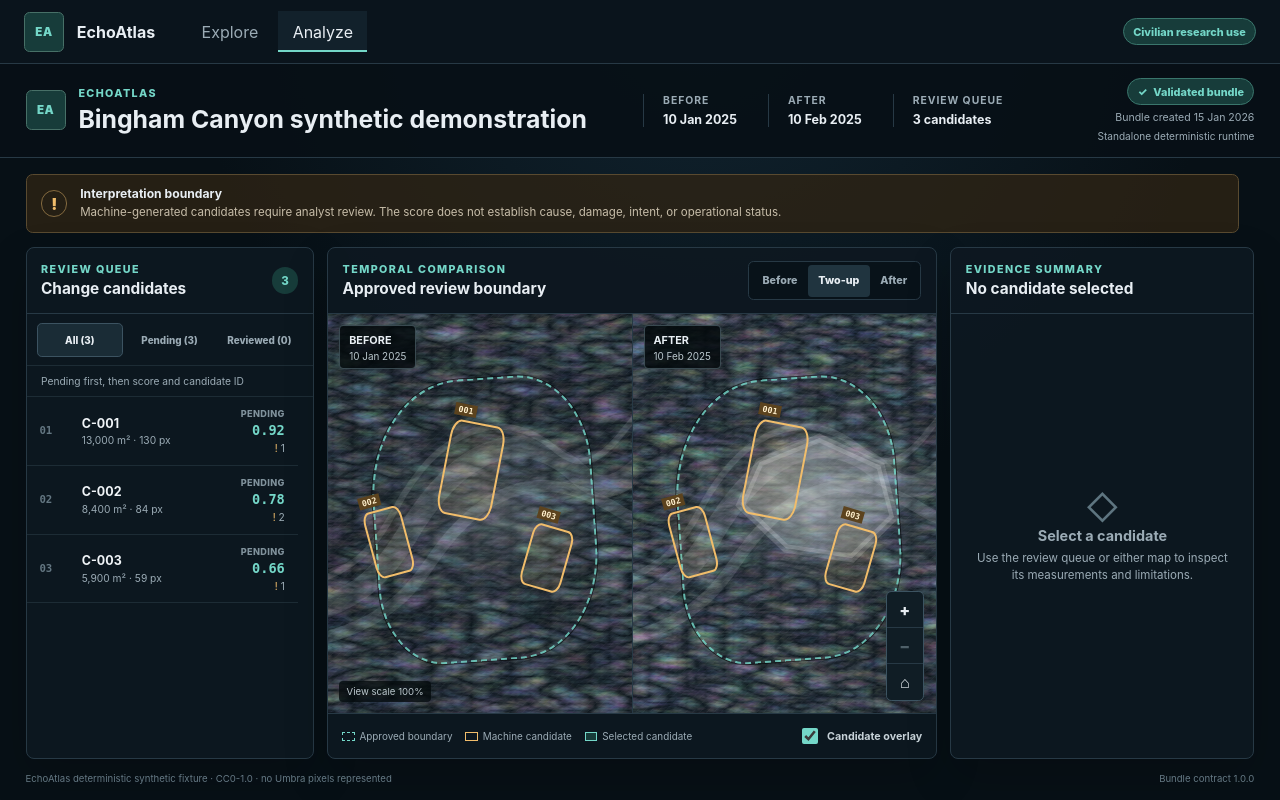
Scenario: App › traces a candidate through provenance, processing, warnings, and export
The image size is (1280, 800).
Step 1. Click the button "01 C-001 13,000 m² · 130 px Pending 0.92 ! 1" → click(162, 431), box [27, 397, 298, 466]
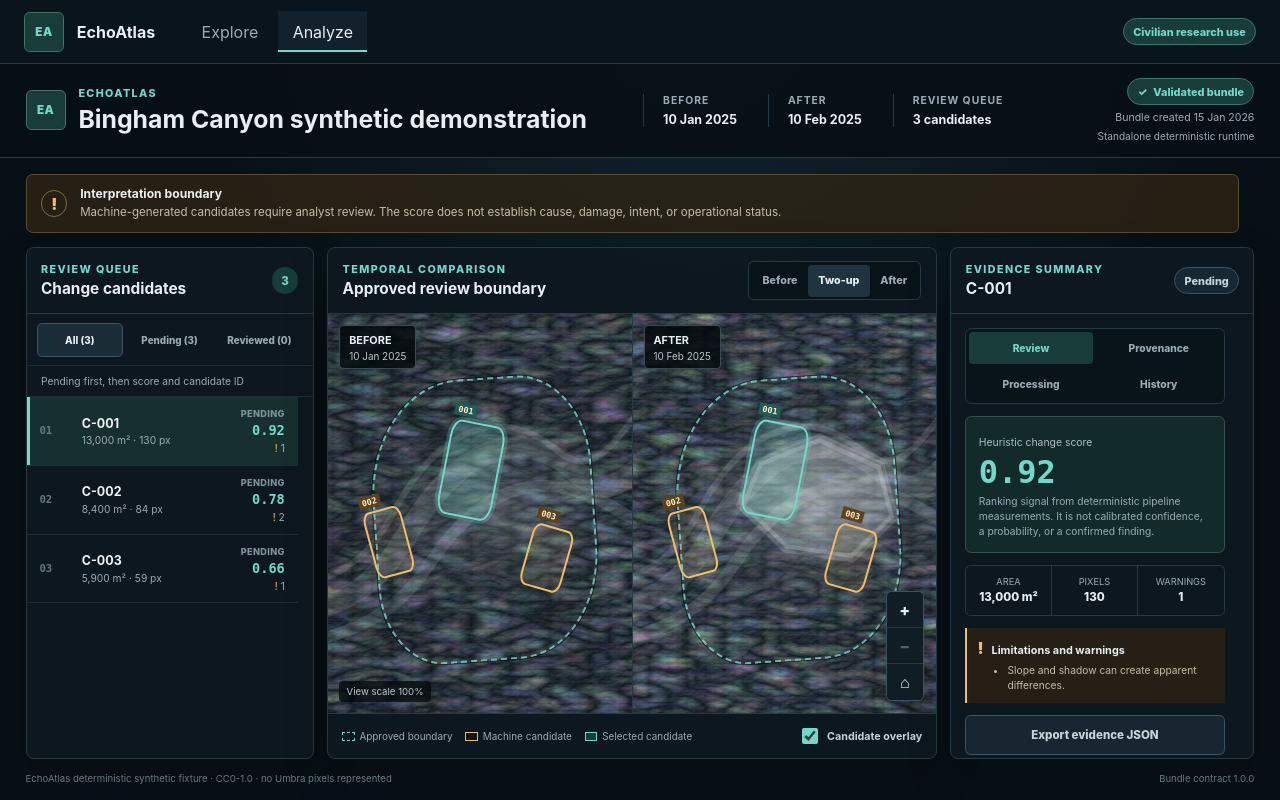
Check: the text "Ranking signal from deterministic" shows "not calibrated confidence", box [979, 495, 1203, 537]
Step 2. Click the tab "Provenance" → click(1159, 348), box [1097, 332, 1221, 364]
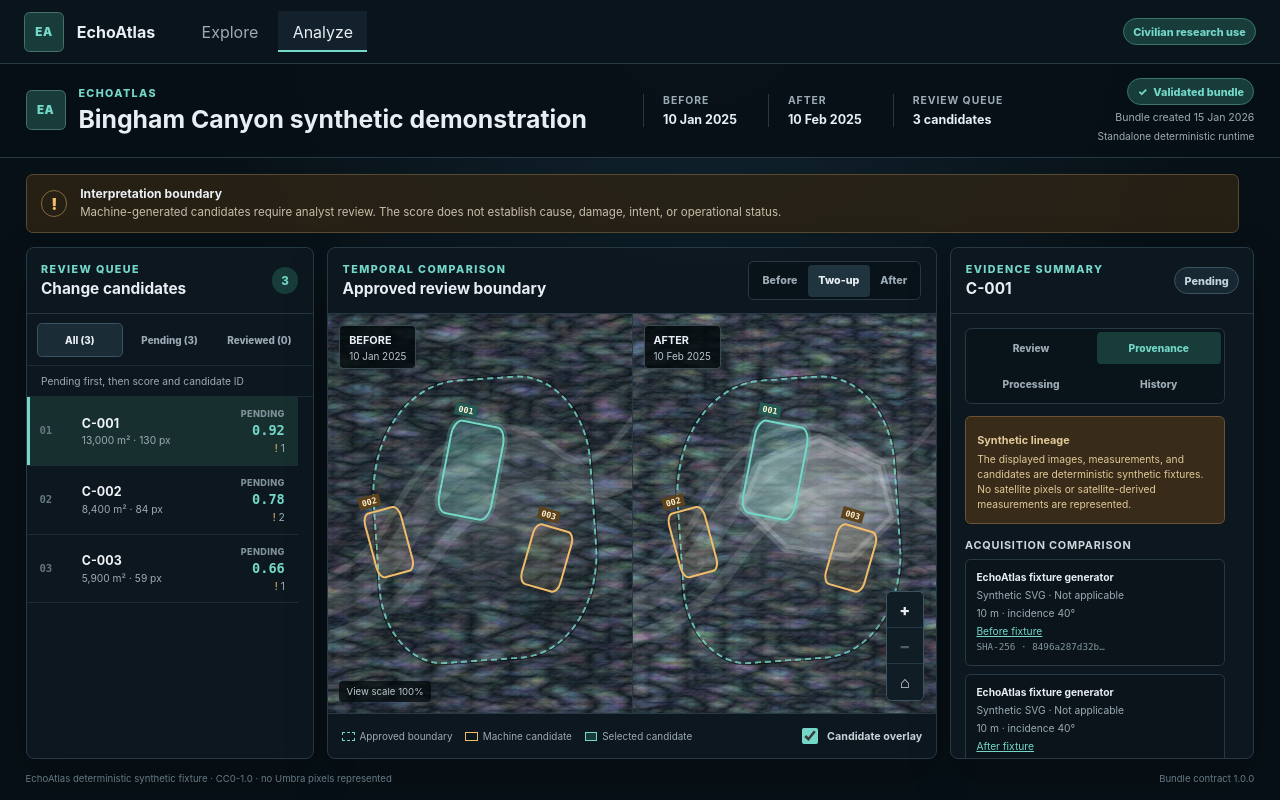
Check: the text "Synthetic lineage" is shown, box [977, 433, 1070, 447]
Check: the text "EchoAtlas fixture generator" is shown 2 times, box [976, 571, 1114, 583]; [976, 686, 1114, 698]
Step 3. Click the tab "Processing" → click(1031, 384), box [969, 368, 1093, 400]
(page scrolled)
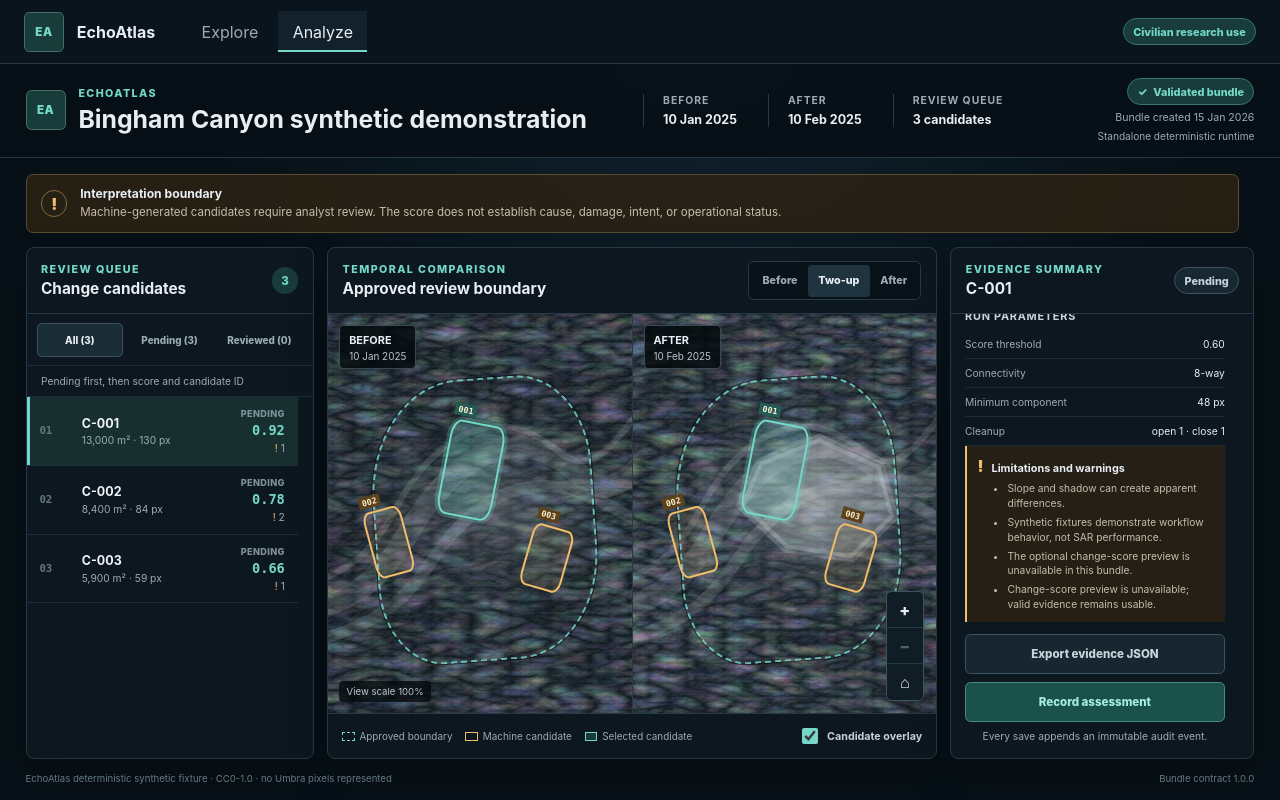
Check: the list item "Change-score preview is unavailable" is shown, box [1008, 583, 1189, 610]
